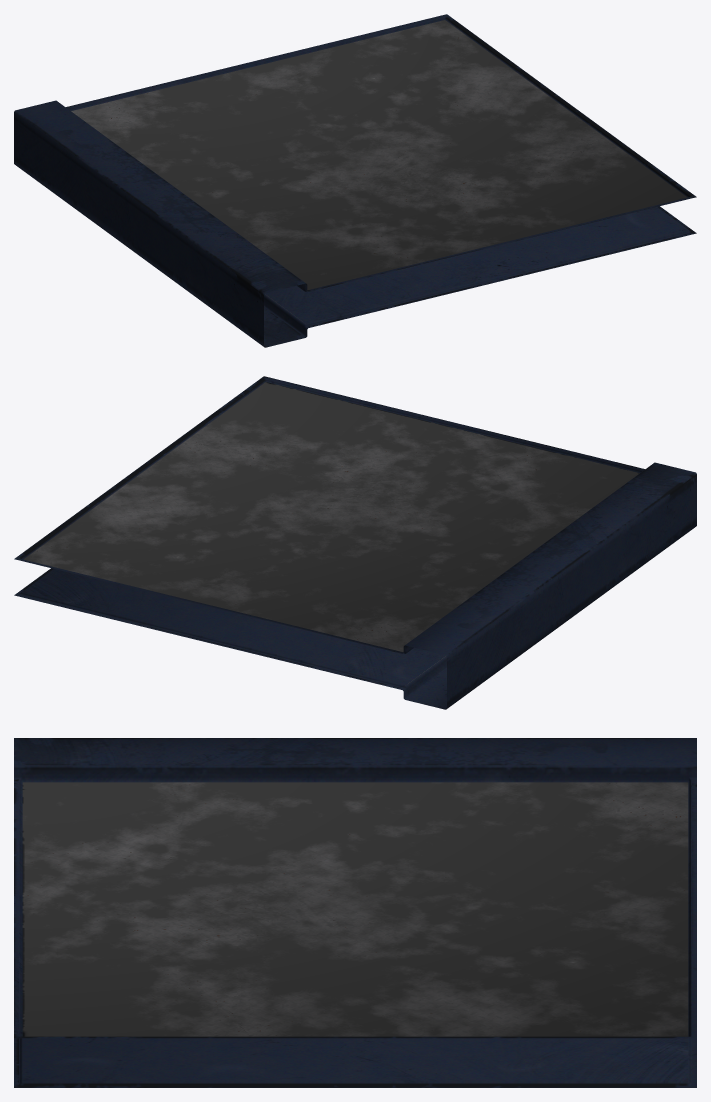
Rendered from platform_mod_01.gltf.
The picture shows the model from 3 angles, top to bottom: view 1: azimuth 30°, elevation 25°; view 2: azimuth 150°, elevation 25°; view 3: azimuth 270°, elevation 25°; orthographic projection. The views are drawn at different scales.
Parts seen in each view (by area): view 1: platform_modular_01; view 2: platform_modular_01; view 3: platform_modular_01.
Boxes of the visible parts, <box> form: platform_modular_01: <box>14,14,696,347</box>; platform_modular_01: <box>14,376,696,709</box>; platform_modular_01: <box>14,738,696,1087</box>.
Bounding box in the file's own units: 2 × 0.24 × 2.
Materials: 1 (1 with a texture image).
